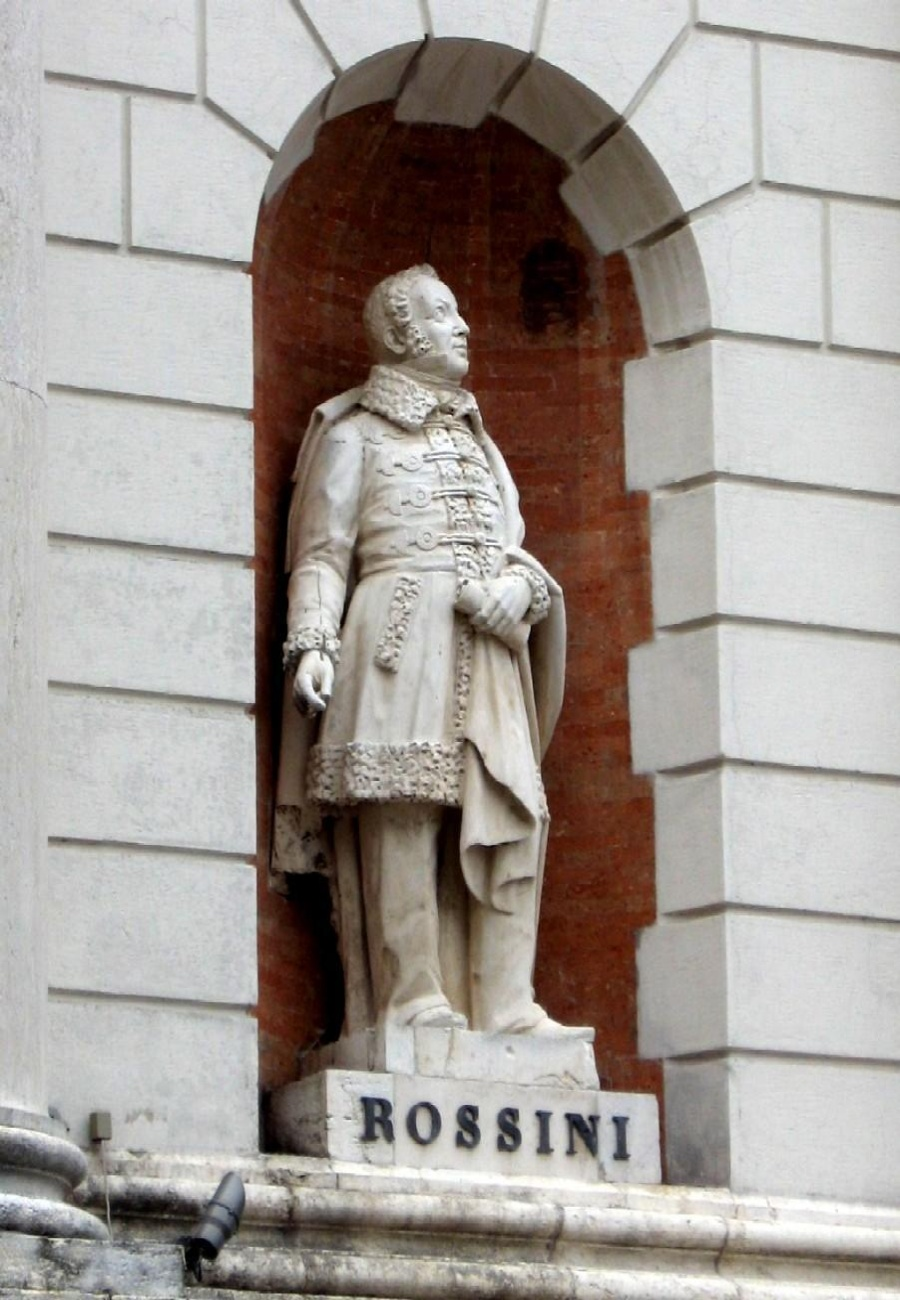Gioachino Rossini: (235, 35, 730, 1211)
